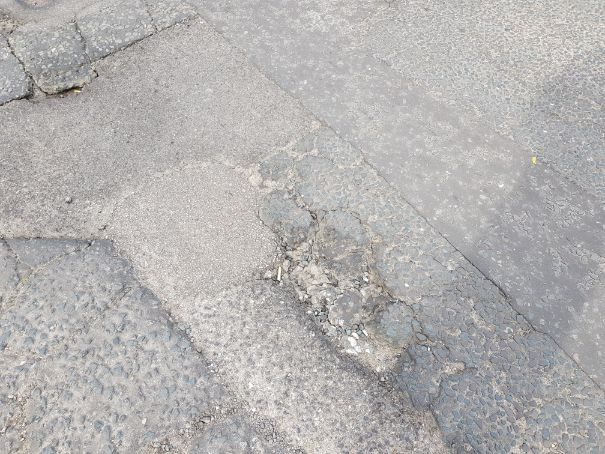pothole: (249, 185, 469, 401)
